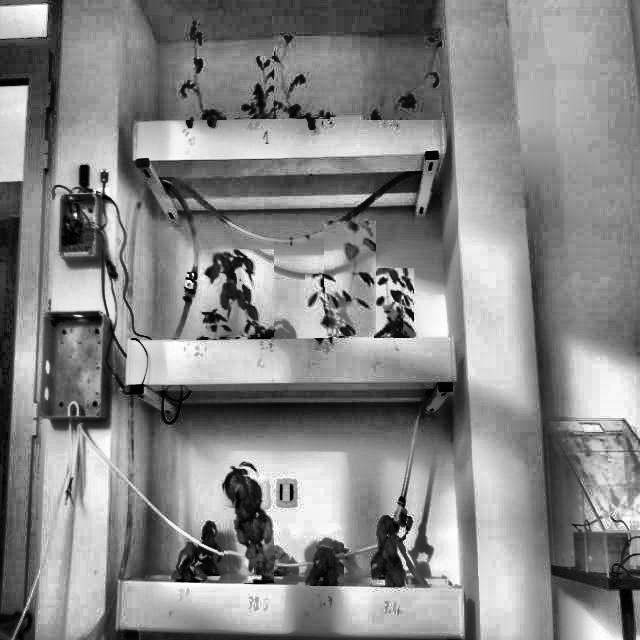plants: (363, 28, 442, 120), (222, 461, 274, 583), (202, 249, 274, 337), (324, 221, 376, 337), (172, 17, 227, 120), (274, 36, 330, 119), (230, 56, 281, 119), (374, 268, 414, 338), (305, 274, 341, 338), (373, 518, 406, 586), (190, 522, 225, 574), (311, 535, 344, 586), (171, 542, 206, 580), (196, 307, 230, 340)
